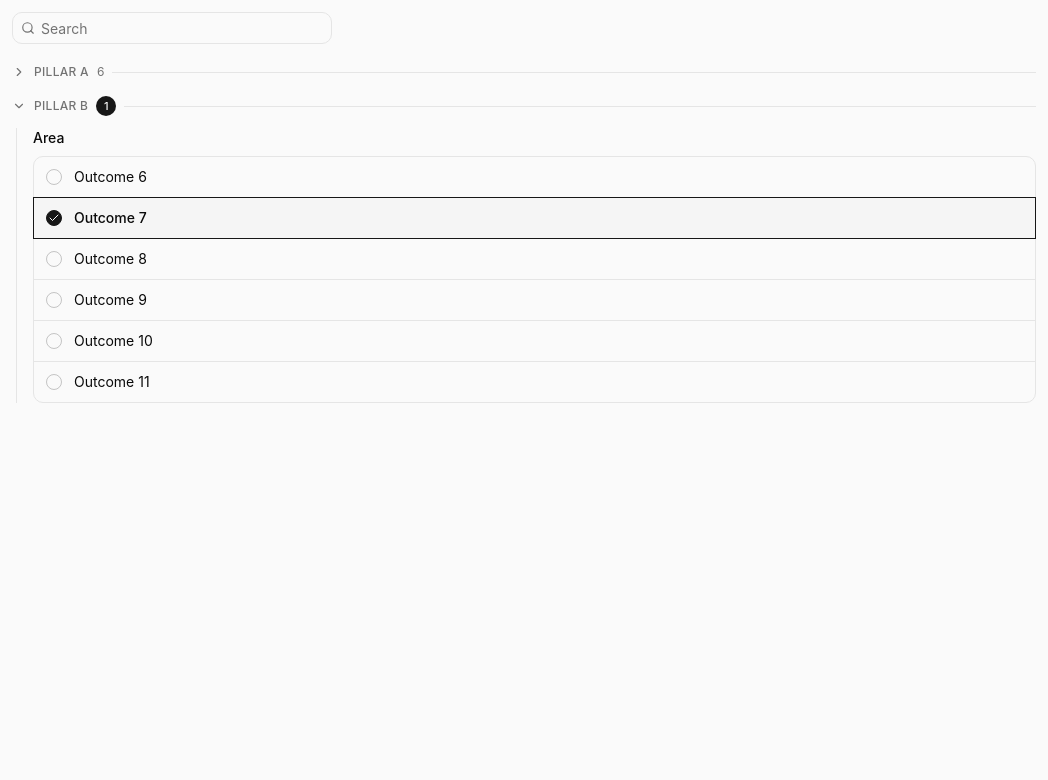
Scenario: a long register › starts with only the branches that hold a pick open
Expected: the text "Outcome 0" is not shown
Click the button "Pillar A 6": (61, 72) top-left (12, 64), bottom-right (1036, 80)
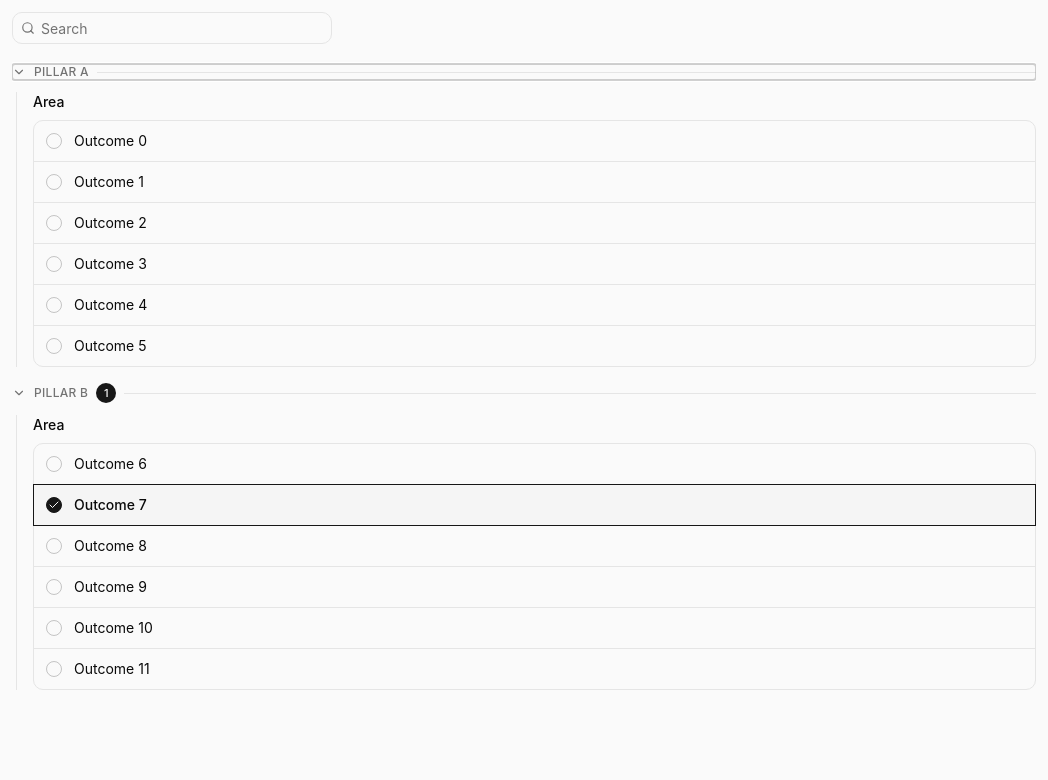
Now the text "Outcome 0" is shown, box top-left (74, 132), bottom-right (147, 149)
